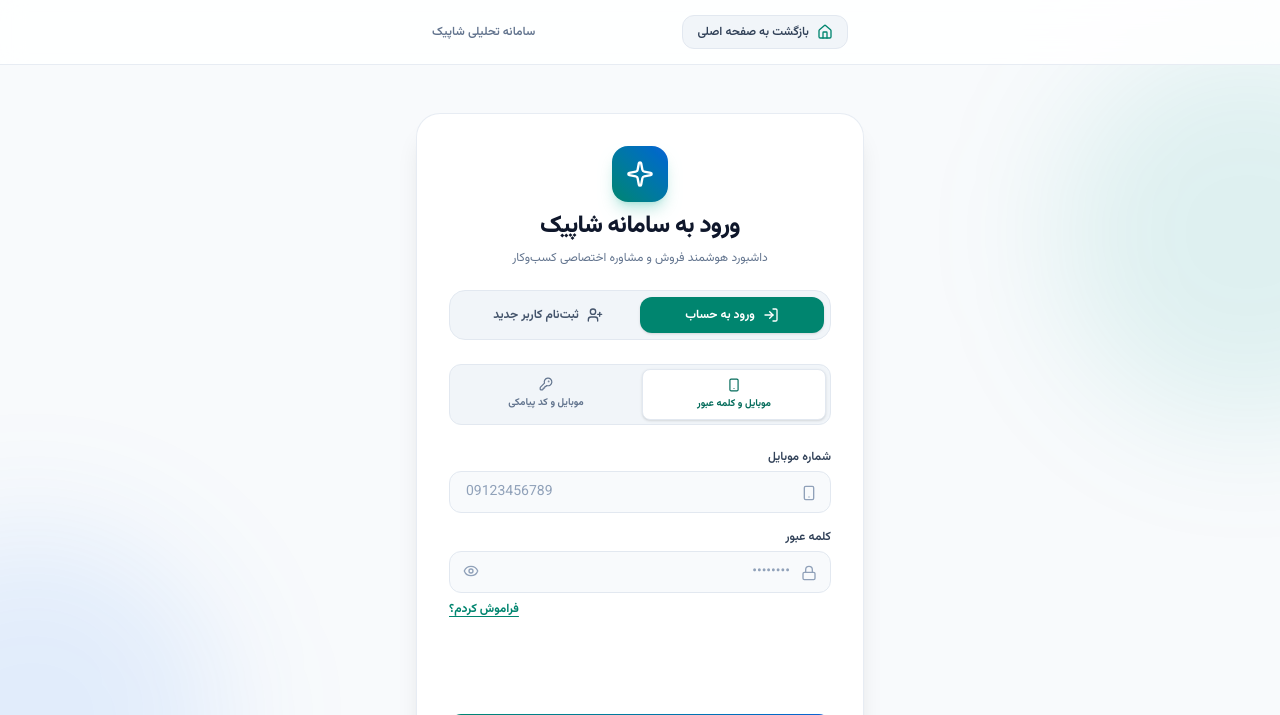
it: [page] LoginPage Comprehensive Tests › switches to phone OTP login when the phone-otp method is selected
This screenshot has width=1280, height=715.
Click the button with test id "login-method-phone-otp" at coordinates (546, 394), box left=454, top=369, right=638, bottom=420
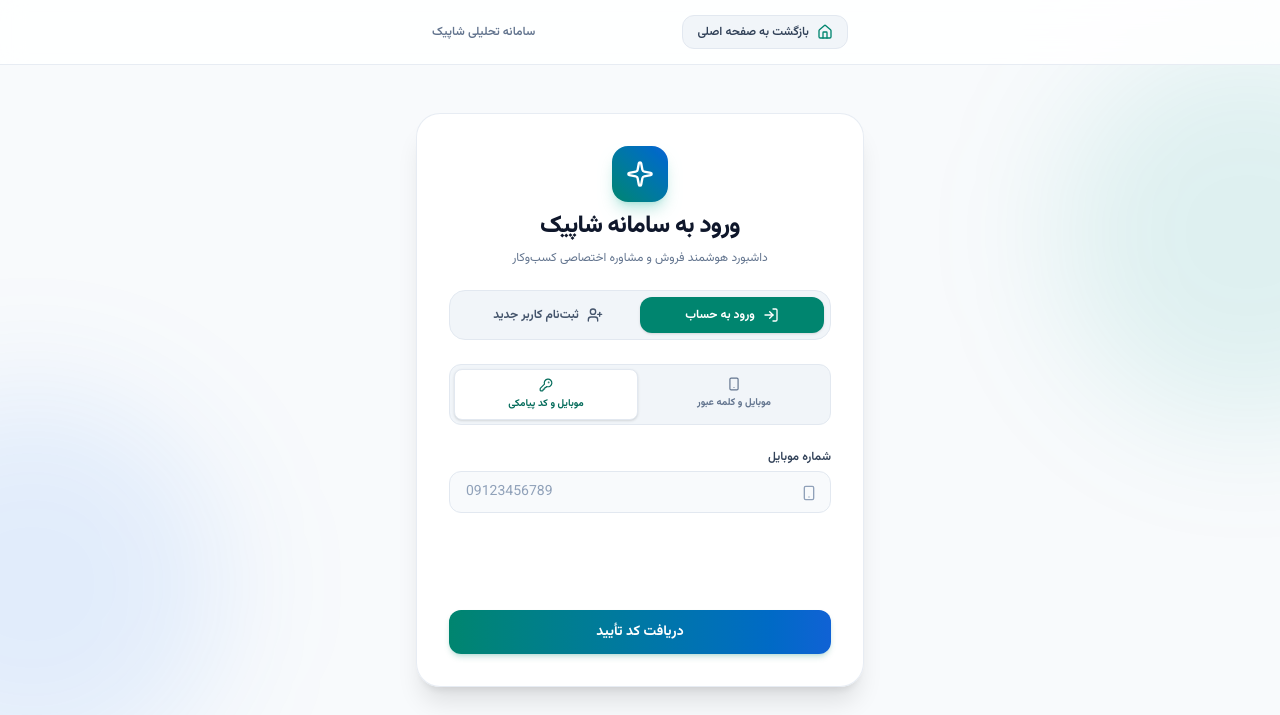
Expected: the field with test id "otp-phone" is shown, left=449, top=471, right=831, bottom=513
Result: the button with test id "otp-send-btn" is shown at left=449, top=610, right=831, bottom=654
